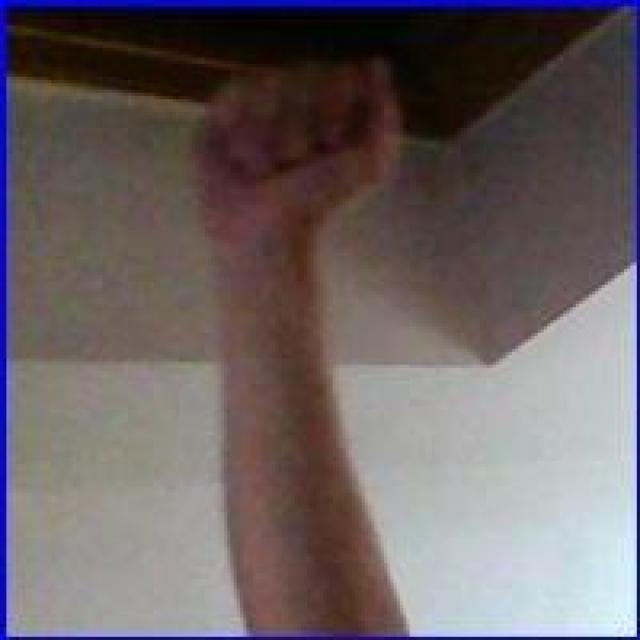A: (192, 48, 406, 298)
